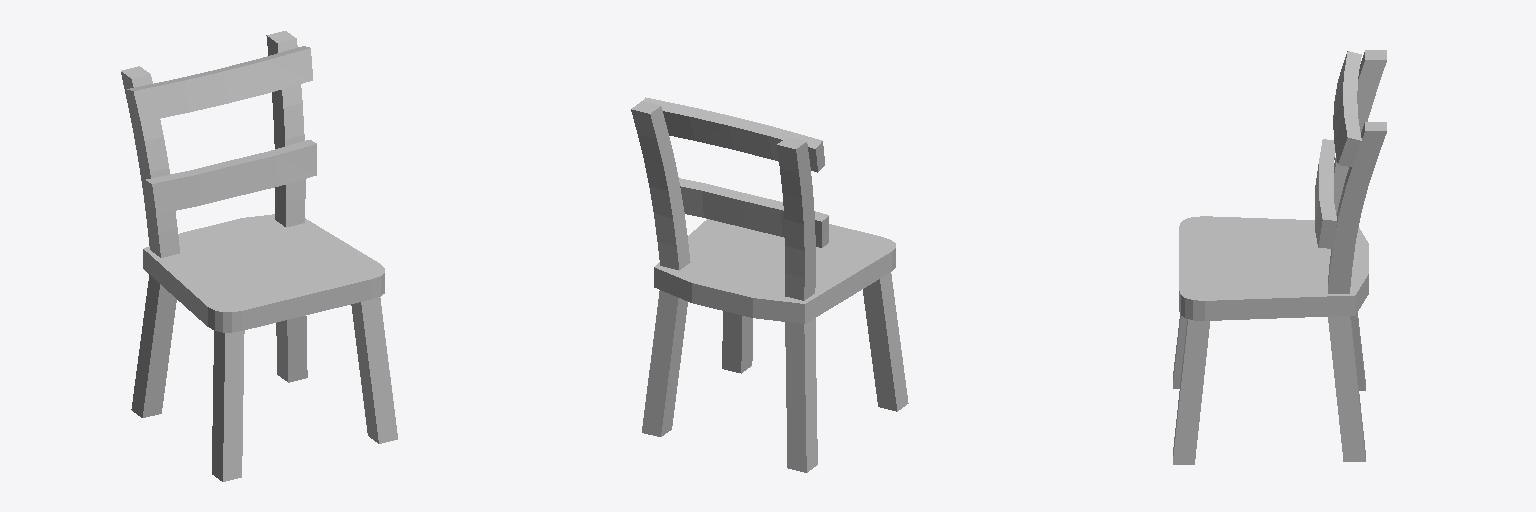
The model's file is Wabble_Chair.obj.
3 renders of one model, left to right at view 1: azimuth 30°, elevation 25°; view 2: azimuth 150°, elevation 25°; view 3: azimuth 270°, elevation 25°, orthographic.
Parts seen in each view (by area): view 1: Wabble_Chair; view 2: Wabble_Chair; view 3: Wabble_Chair.
Boxes of the visible parts, x1=… form: Wabble_Chair: x1=121, y1=31, x2=397, y2=481; Wabble_Chair: x1=631, y1=97, x2=908, y2=472; Wabble_Chair: x1=1173, y1=50, x2=1386, y2=464.
Size of the model in its own units: 0.4592 by 0.8198 by 0.4816.